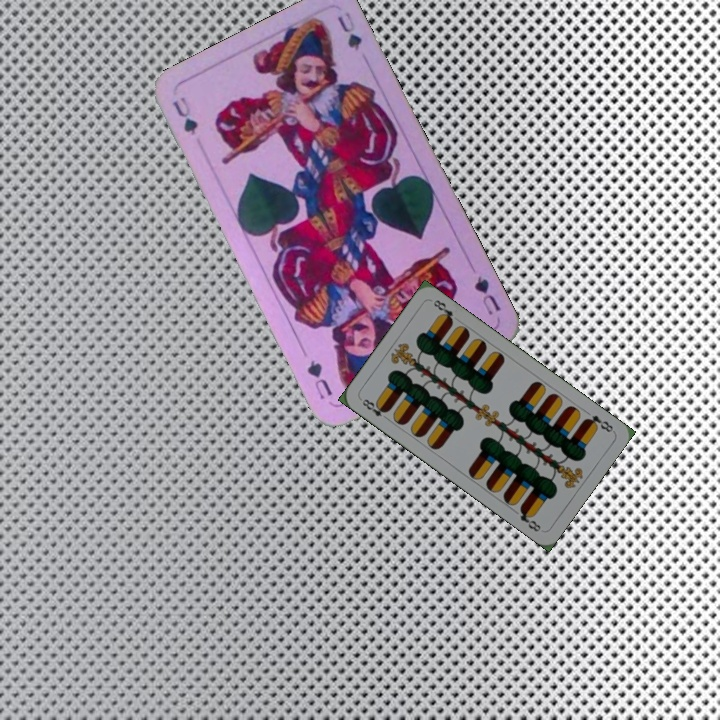E8: (357, 395, 392, 423), (580, 411, 616, 435)
GU: (470, 272, 503, 318), (168, 92, 201, 138)
